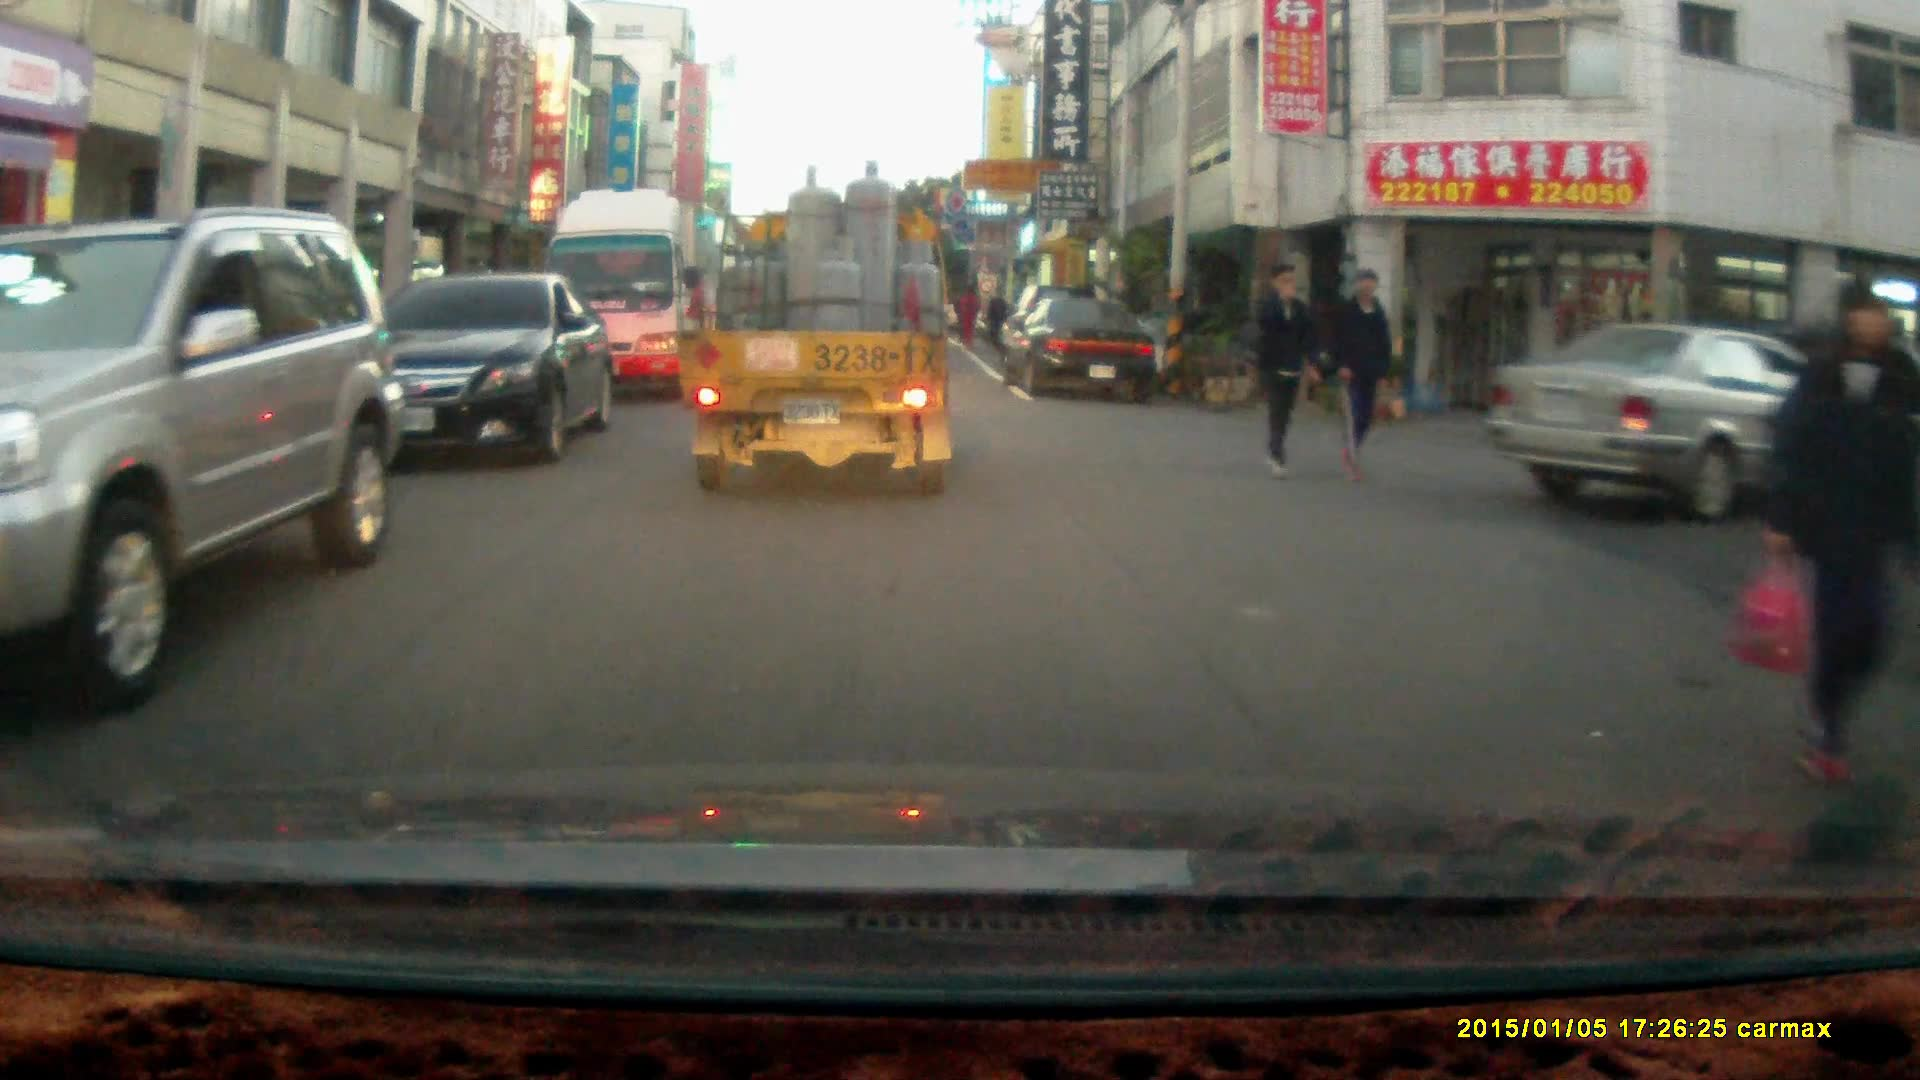pedestrian: (1761, 283, 1912, 793), (1326, 263, 1394, 486), (1254, 254, 1317, 475), (984, 281, 1012, 351), (955, 280, 980, 349)
vehicle: (1, 206, 412, 709), (681, 161, 960, 502), (1482, 321, 1888, 524), (316, 273, 620, 471), (539, 182, 724, 404), (996, 293, 1161, 402)
